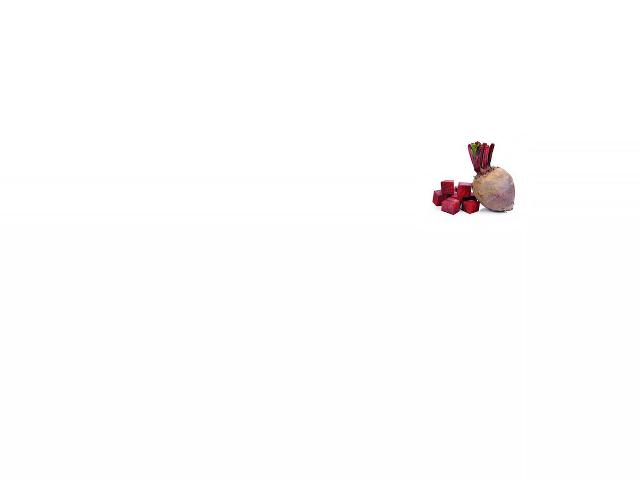beet: (467, 142, 514, 212)
